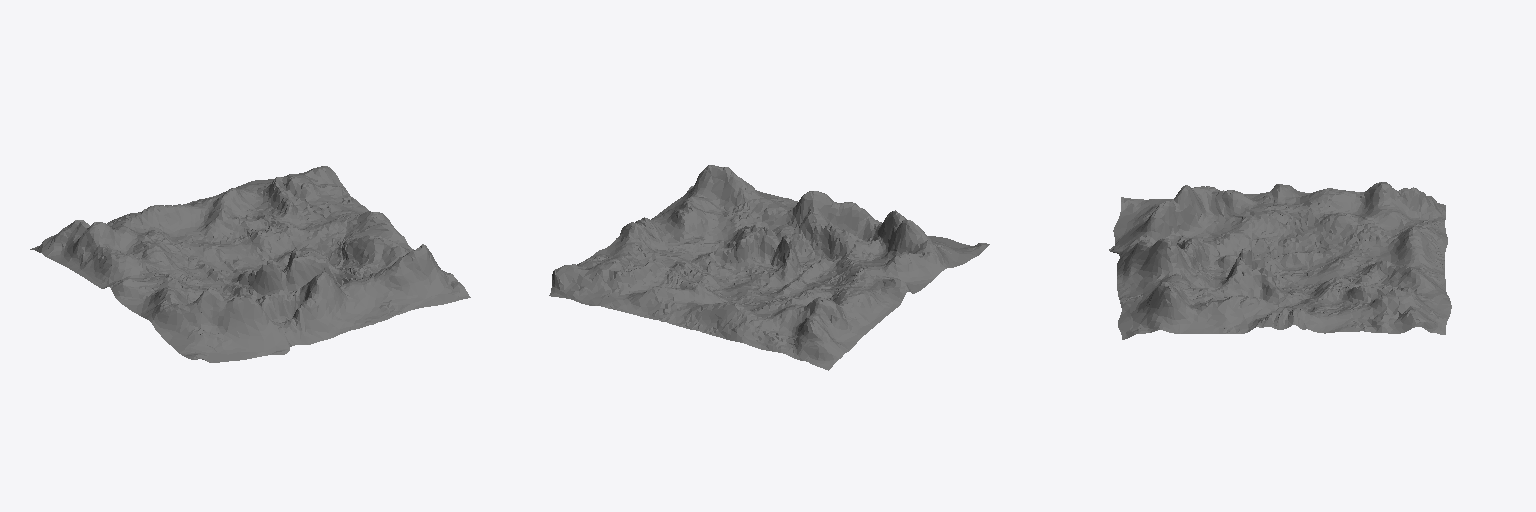
The model's file is ground4.obj.
The picture shows the model from 3 angles: view 1: azimuth 30°, elevation 25°; view 2: azimuth 150°, elevation 25°; view 3: azimuth 270°, elevation 25°; orthographic projection.
Visible parts, largest first — view 1: ground6:pPlane1; view 2: ground6:pPlane1; view 3: ground6:pPlane1.
Part boxes in pixels (left/top/right/bottom): ground6:pPlane1: left=30, top=166, right=470, bottom=362; ground6:pPlane1: left=549, top=165, right=989, bottom=370; ground6:pPlane1: left=1109, top=182, right=1451, bottom=339.
Bounding box in the file's own units: 1042 × 170 × 1061.